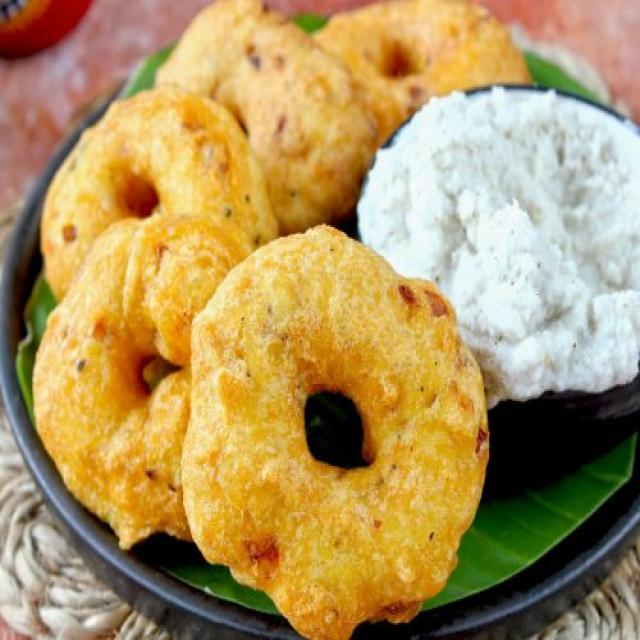MEDU VADA: (172, 228, 487, 622), (30, 212, 249, 544), (37, 80, 275, 300), (160, 0, 382, 228), (322, 0, 530, 108)
